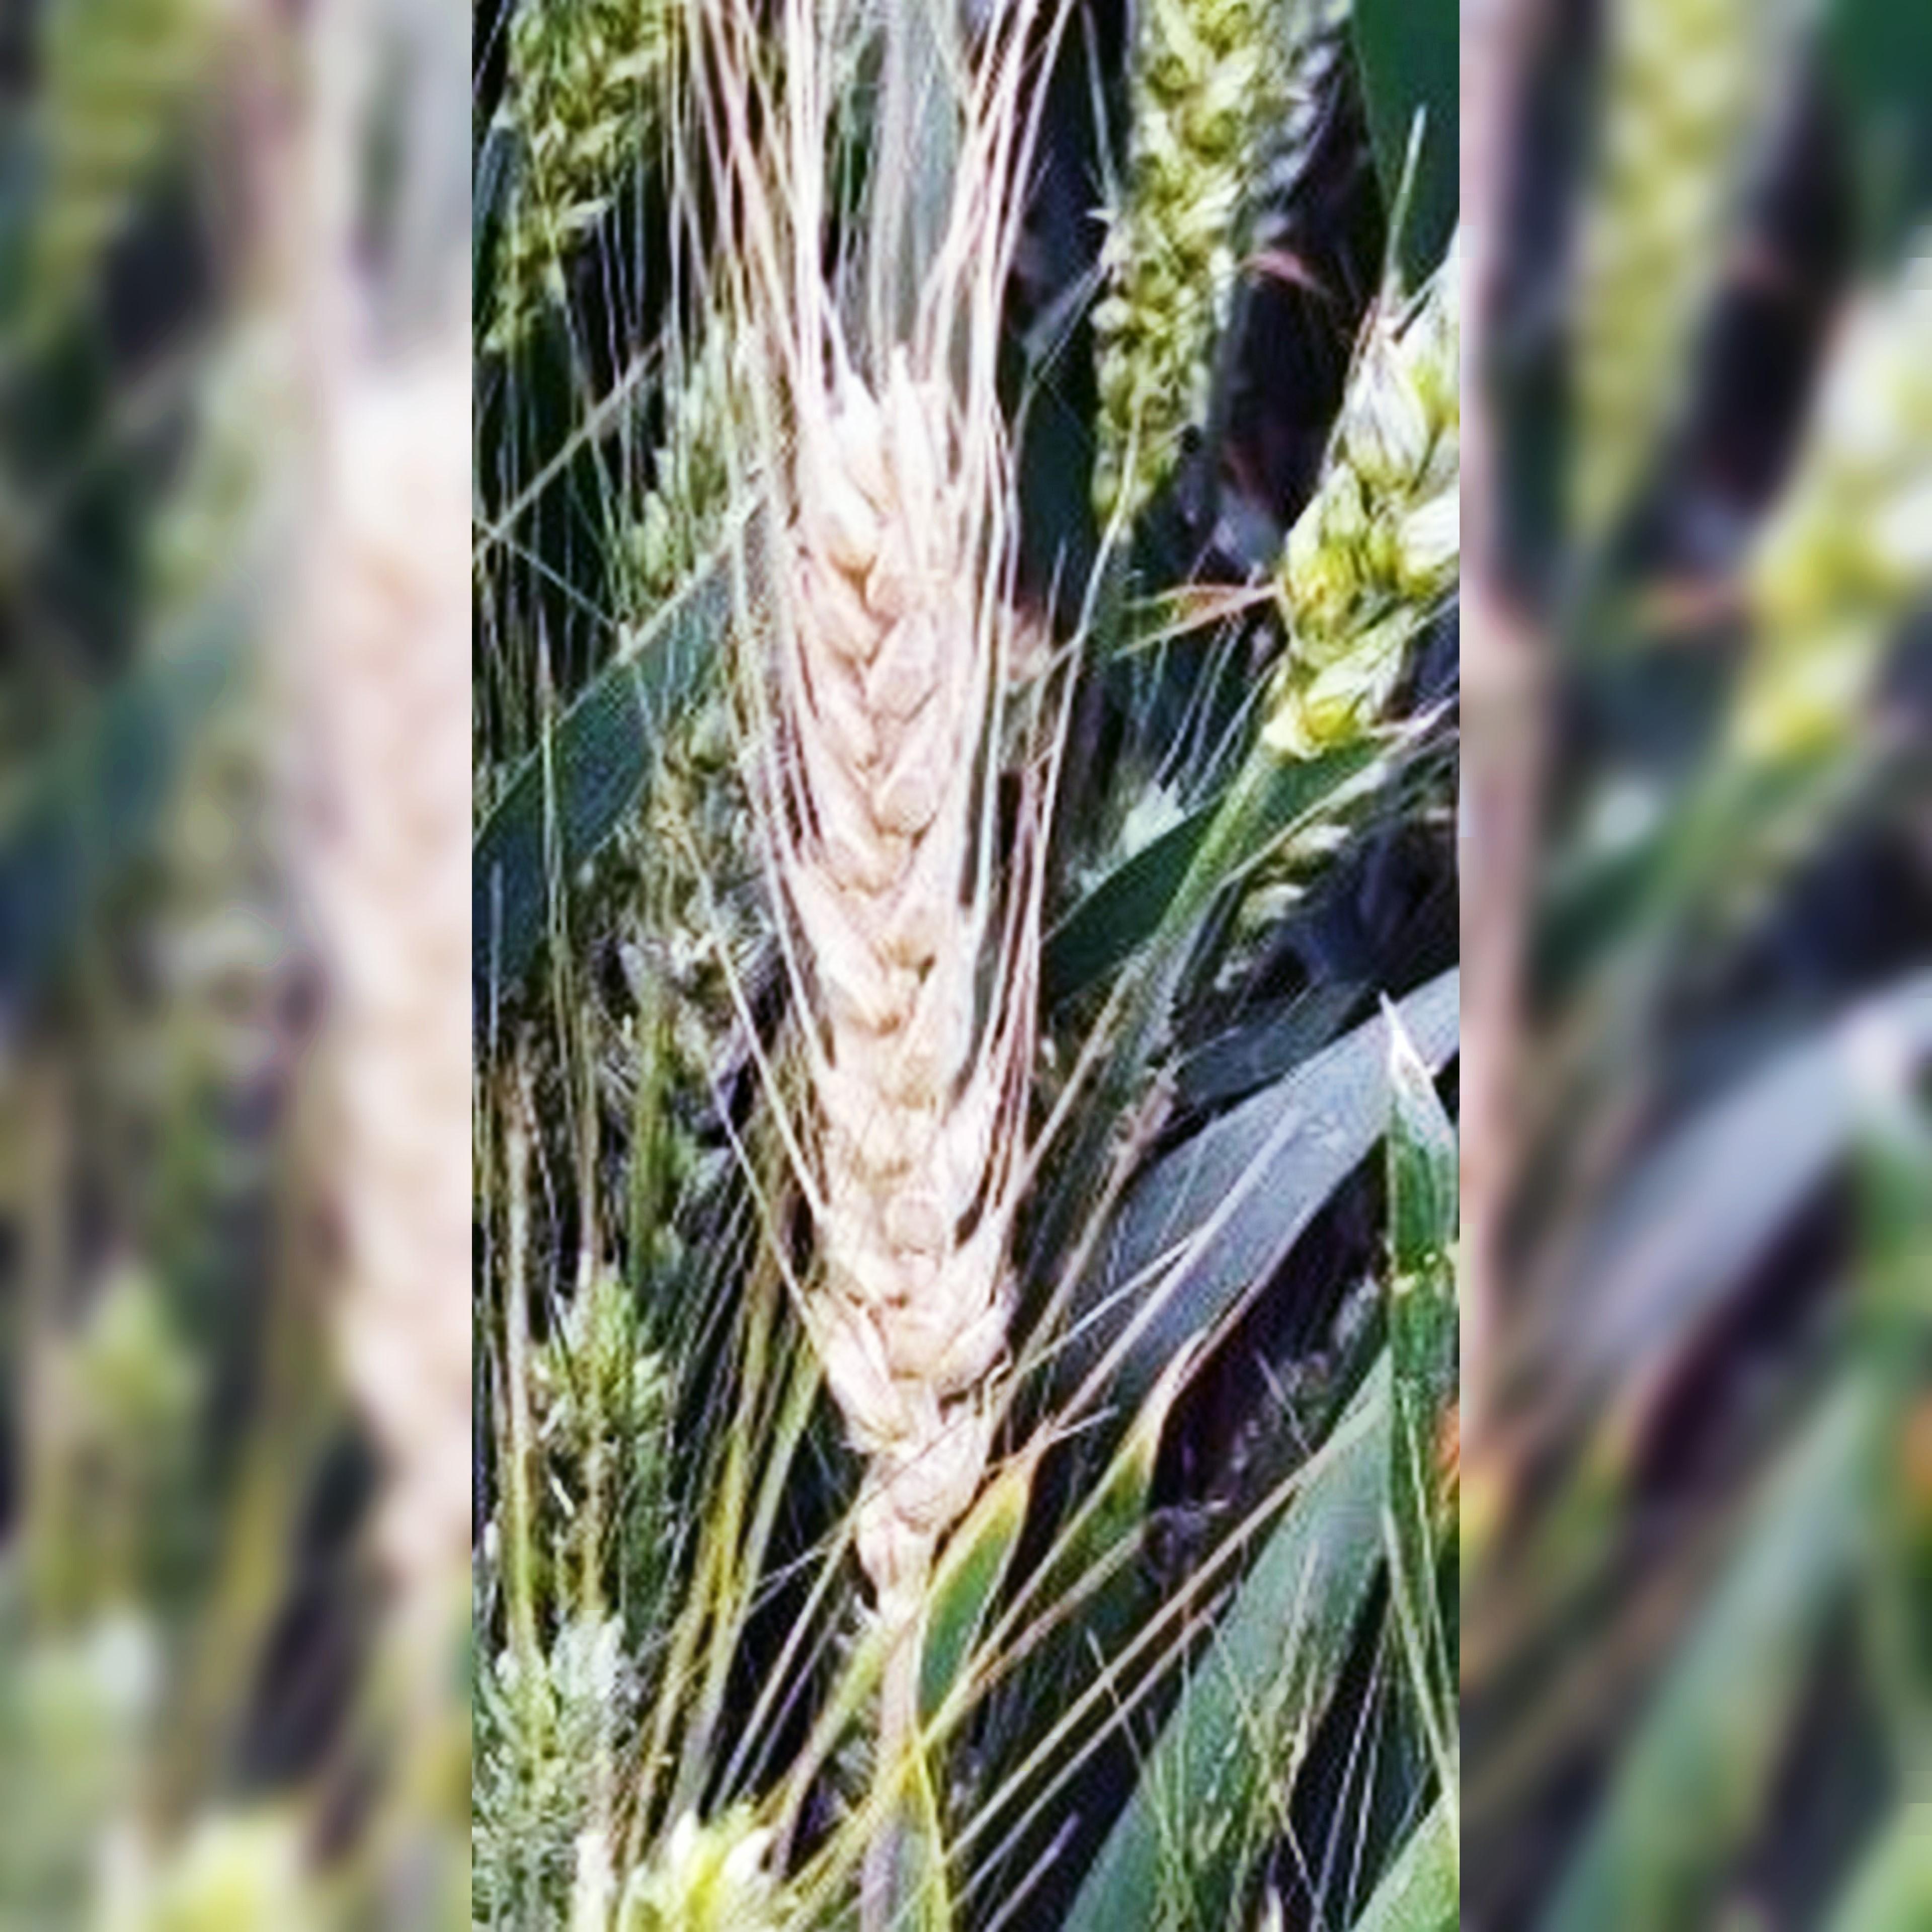Wheat scab: (743, 357, 1051, 1553)
